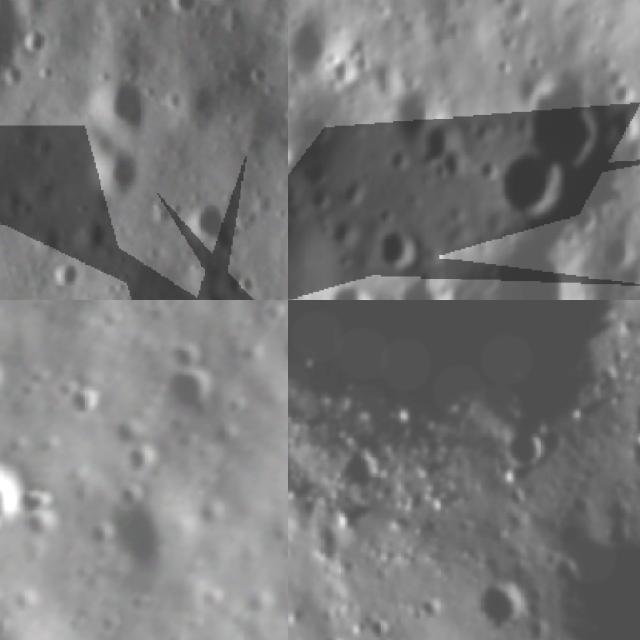crater: (518, 67, 618, 169), (477, 235, 600, 300), (80, 65, 166, 140), (492, 146, 574, 222), (386, 70, 446, 152), (110, 503, 176, 577), (417, 108, 479, 185), (182, 189, 248, 257), (464, 577, 531, 640), (88, 135, 148, 204), (365, 218, 424, 280), (288, 14, 341, 81), (0, 450, 35, 538), (166, 361, 217, 420), (391, 264, 462, 300), (502, 430, 548, 480), (41, 245, 88, 291), (342, 454, 393, 496), (113, 442, 164, 478), (61, 384, 108, 420), (325, 275, 370, 300)
